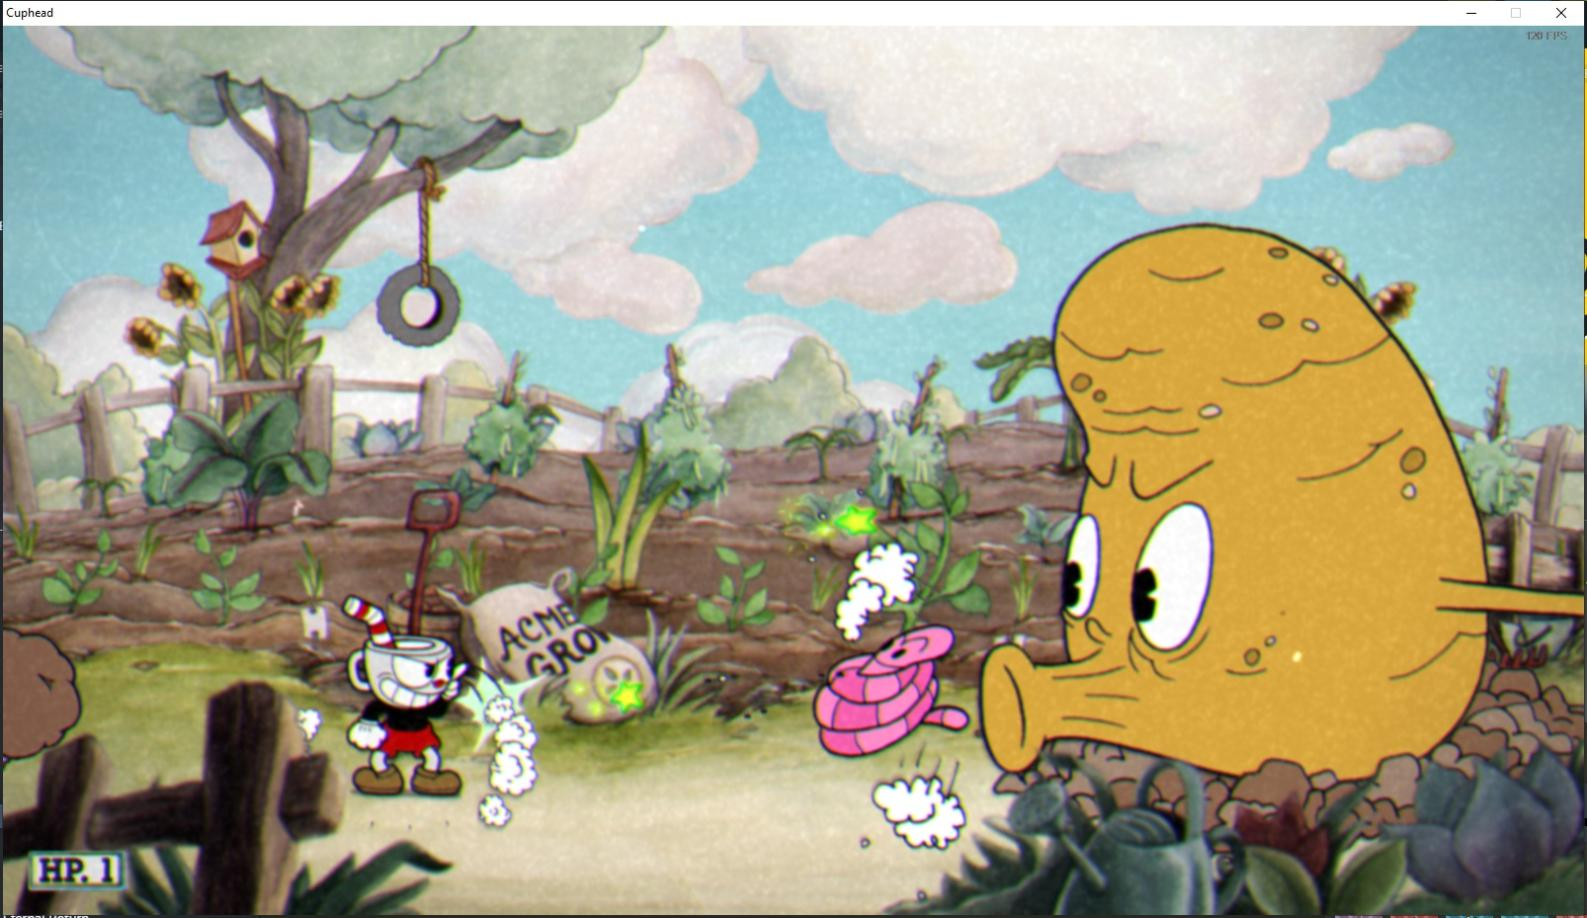dirt: (0, 619, 88, 773)
hp1: (93, 851, 122, 888)
player: (325, 580, 496, 812)
potato_boss: (1016, 197, 1533, 818)
worm: (781, 614, 977, 768)
